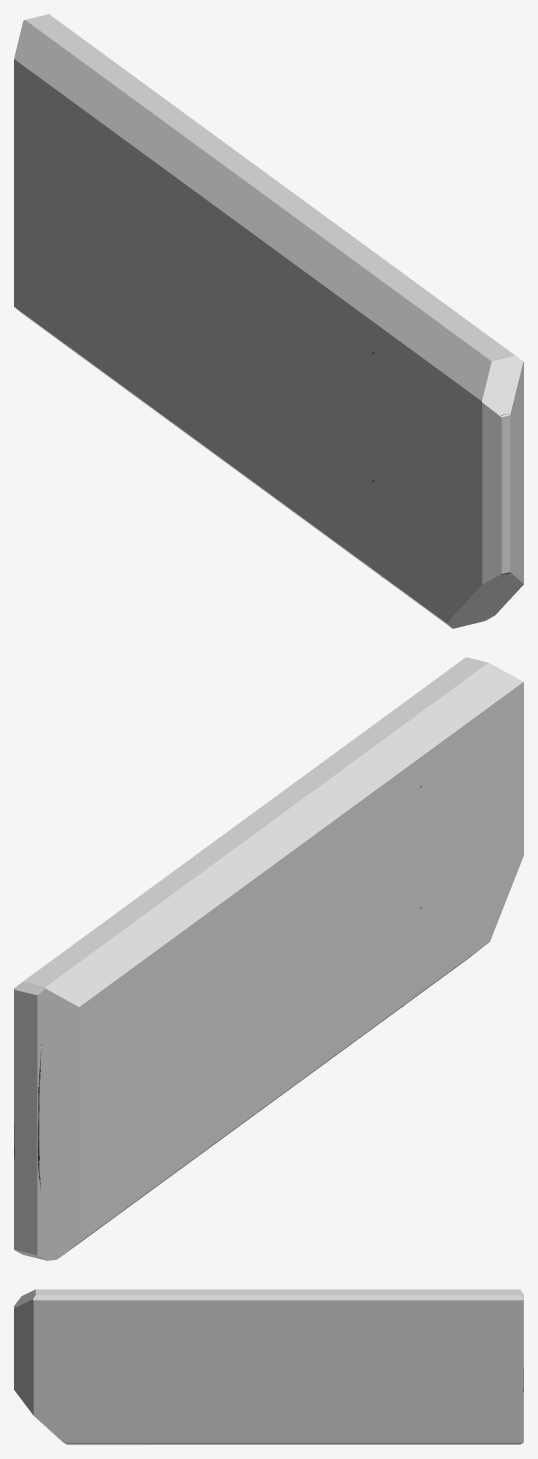
File: SM_wood_fence_01.fbx
3 views of the same model, one above another, from view 1: azimuth 30°, elevation 25°; view 2: azimuth 150°, elevation 25°; view 3: azimuth 270°, elevation 25° (orthographic). The views are drawn at different scales.
Parts seen in each view (by area): view 1: SM_wood_fence_01_ConvexHulls; view 2: SM_wood_fence_01_ConvexHulls; view 3: SM_wood_fence_01_ConvexHulls.
Boxes of the visible parts, x1,y1,x2,y2 form: SM_wood_fence_01_ConvexHulls: (14,14,523,628); SM_wood_fence_01_ConvexHulls: (14,657,523,1260); SM_wood_fence_01_ConvexHulls: (14,1289,523,1444).
Bounding box in the file's own units: 26.31 × 410 × 132.
